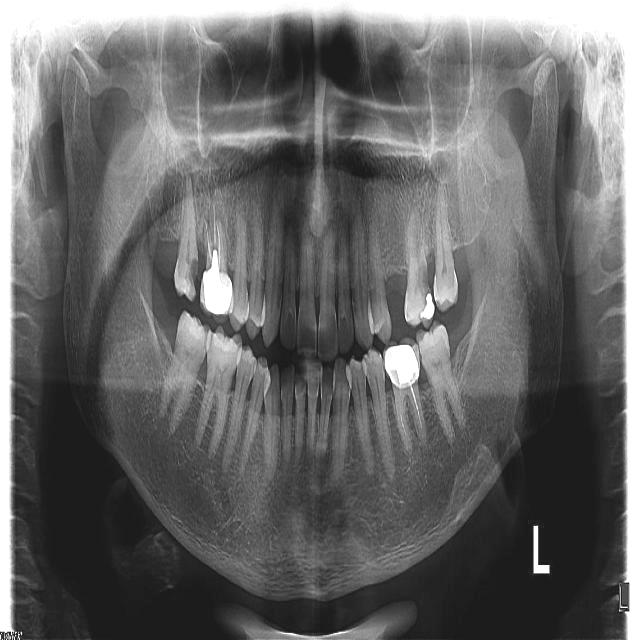Caries: (416, 256, 430, 301), (186, 257, 198, 298)
Crown: (382, 337, 420, 388), (200, 267, 235, 315)
Filling: (210, 330, 241, 352), (420, 293, 435, 319), (184, 315, 200, 339)
Missing teeth: (384, 268, 411, 335)
Root Canal Treatment: (396, 389, 410, 445), (410, 386, 421, 428), (205, 219, 212, 266), (216, 220, 221, 270), (214, 202, 216, 246)
